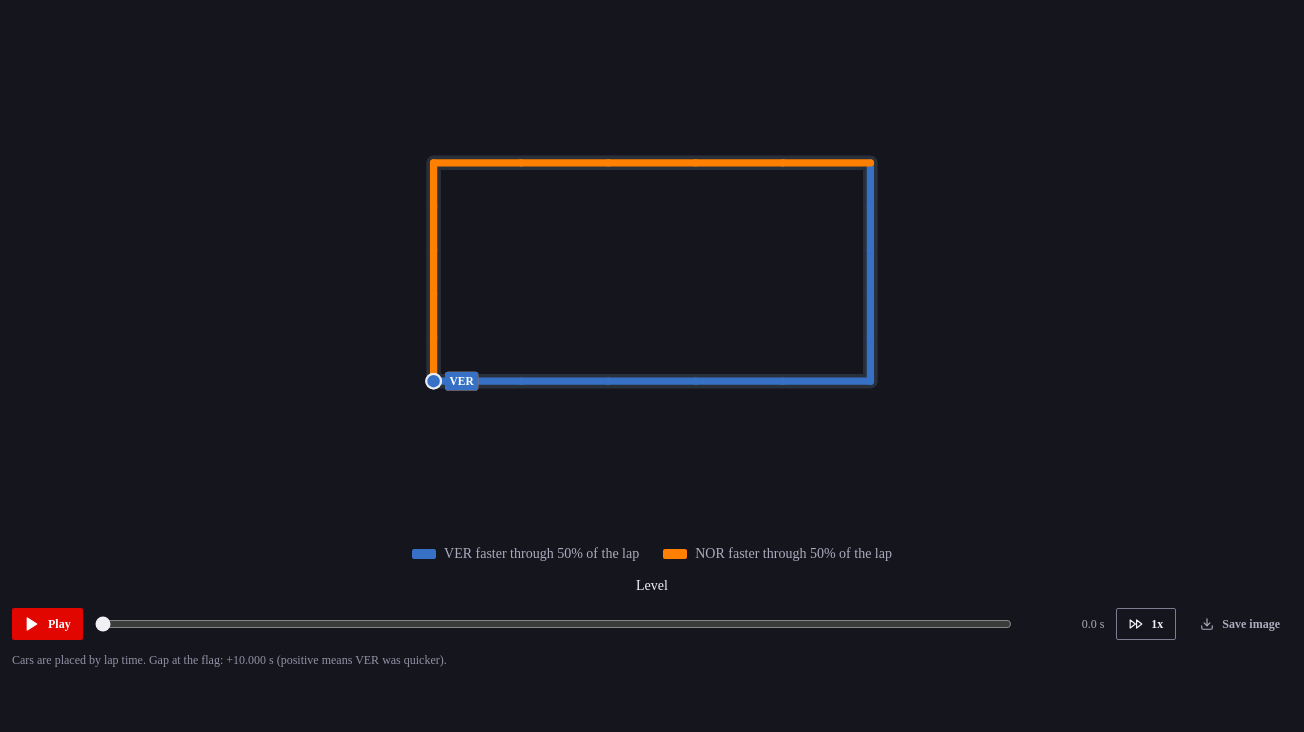
Test case: DominanceMap › shows the live gap between the cars as the replay moves
Expected: the text with test id "live-gap" reads "Level", [636,578,668,593]
// 50 s in, NOR is at ~454.5 m, which VER passed at ~45.45 s
Set the slider named "lap position" to "50" at (513, 624), box [95,620,1012,628]
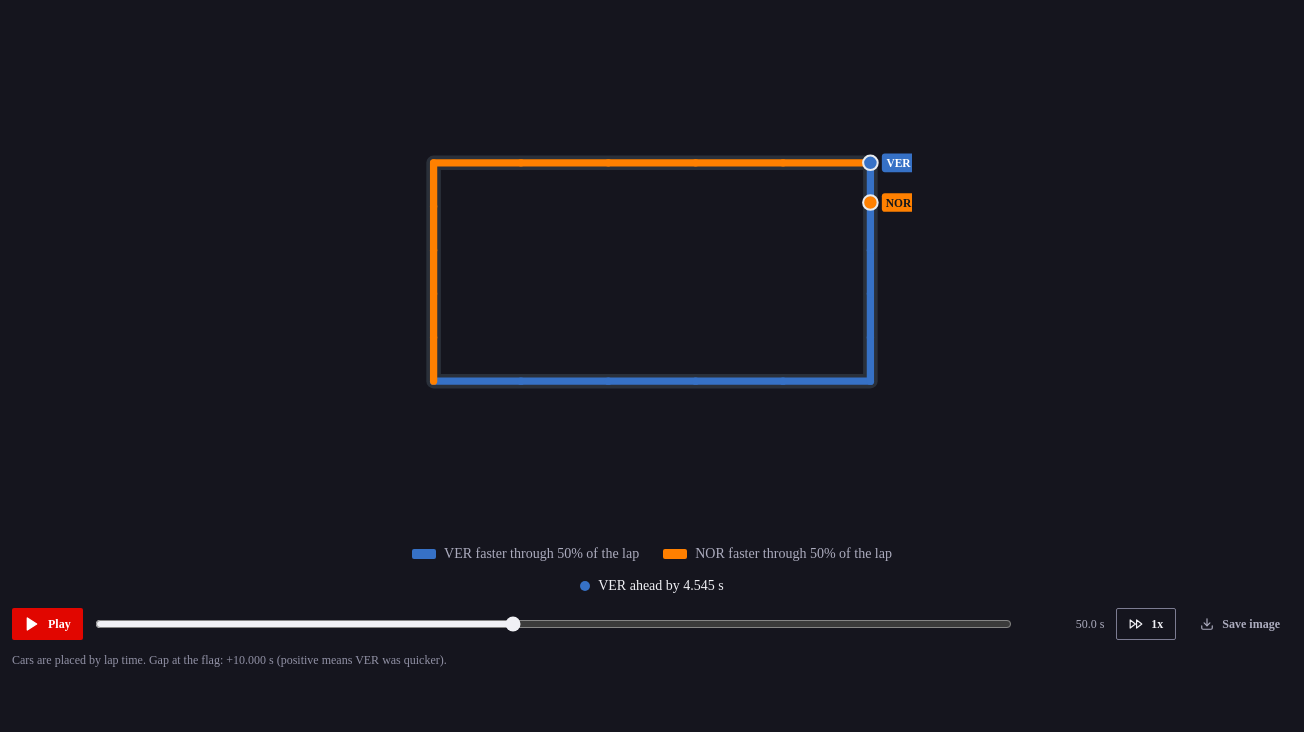
Now the element with test id "live-gap" reads "VER ahead by 4.545 s", box [580,578,724,593]
